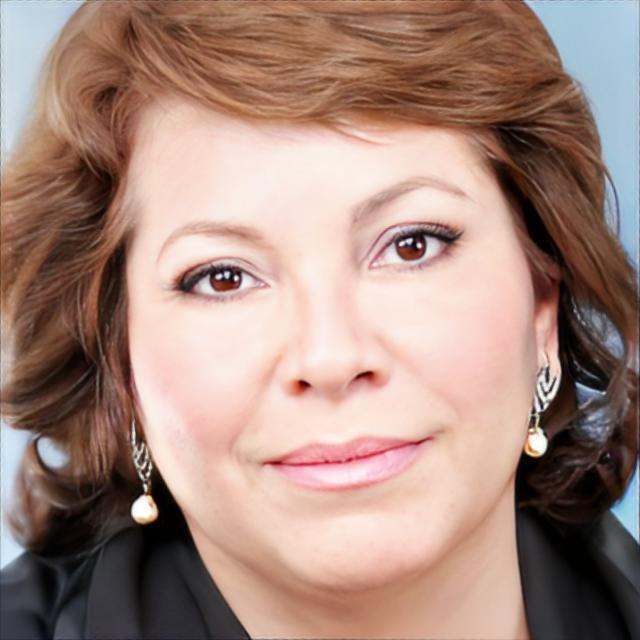content: (121, 81, 534, 596)
